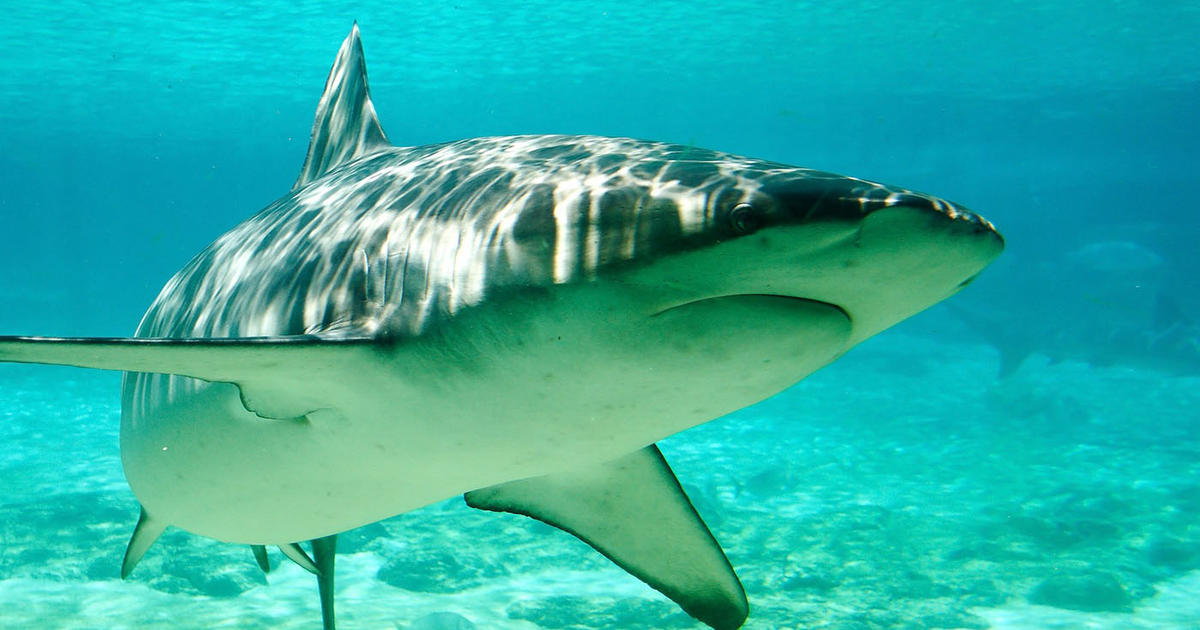shark: (1, 24, 1045, 630)
